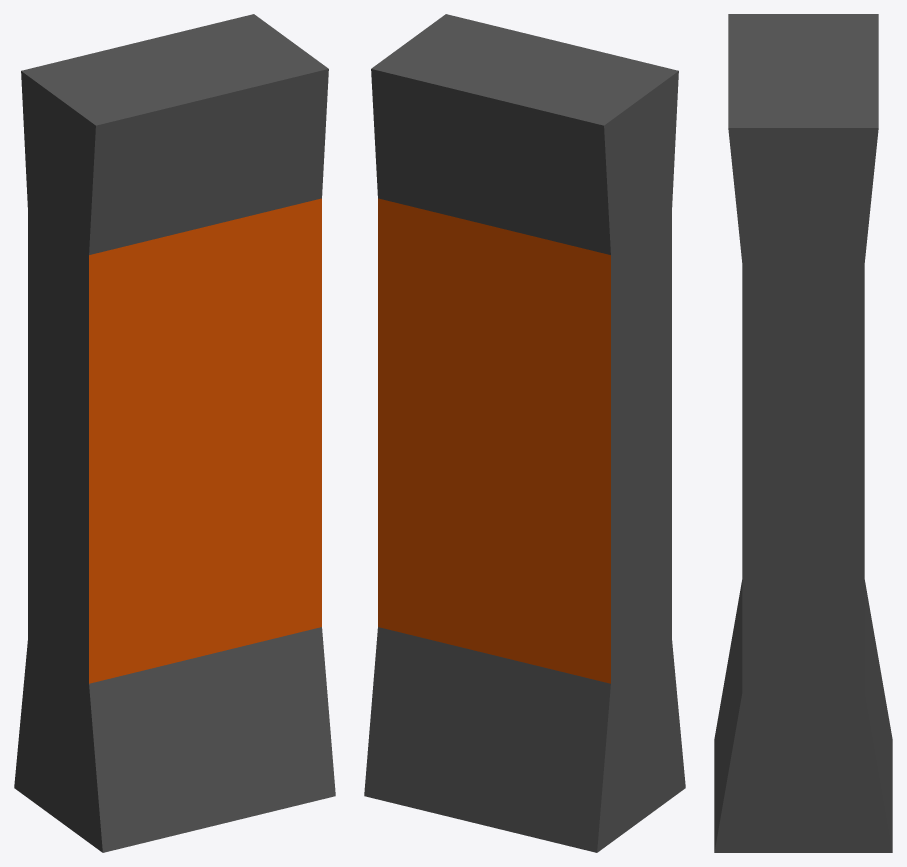
File: env_ruin_pillar_06_lod1.fbx
3 renders of one model, left to right at view 1: azimuth 30°, elevation 25°; view 2: azimuth 150°, elevation 25°; view 3: azimuth 270°, elevation 25°, orthographic.
Parts seen in each view (by area): view 1: env_ruin_pillar_06_lod1.002; view 2: env_ruin_pillar_06_lod1.002; view 3: env_ruin_pillar_06_lod1.002.
Boxes of the visible parts, x1,y1,x2,y2 form: env_ruin_pillar_06_lod1.002: (14, 14, 335, 852); env_ruin_pillar_06_lod1.002: (364, 14, 685, 852); env_ruin_pillar_06_lod1.002: (714, 14, 892, 852).
Size of the model in its own units: 9.62 by 28.5 by 6.35.
